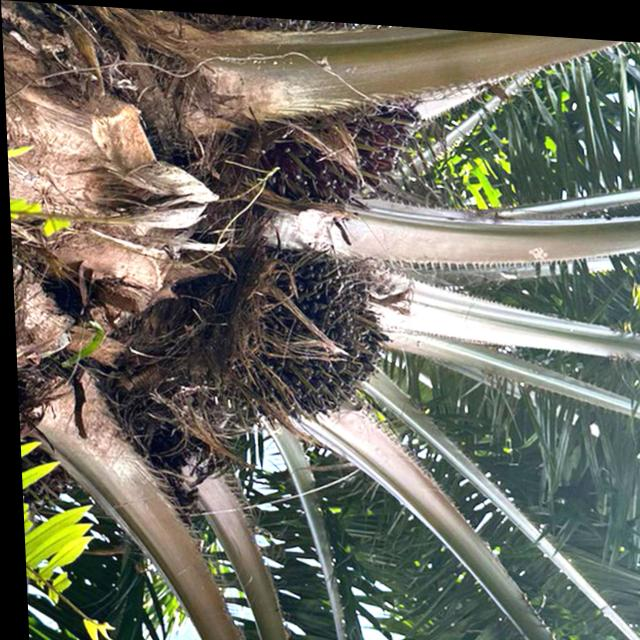unripe: (217, 236, 400, 431)
